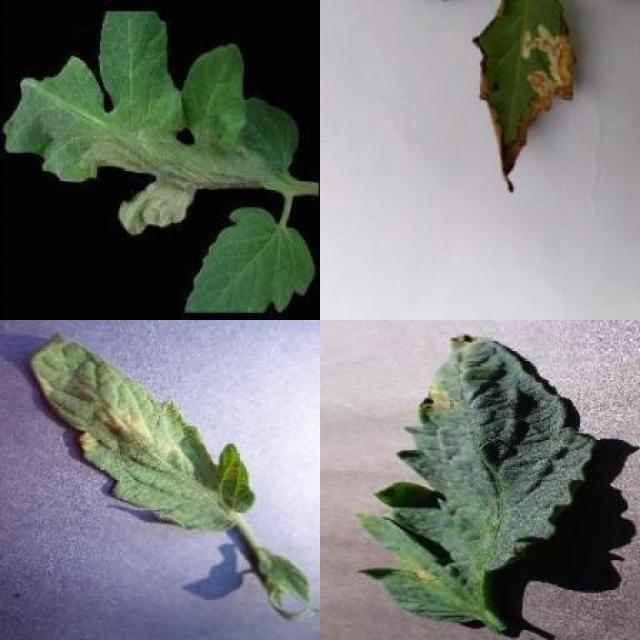Early Blight: (361, 334, 593, 624)
Healthy: (184, 205, 314, 312)
Late Blight: (0, 13, 297, 236)
Leaf Miner: (470, 0, 575, 174)
Leaf Mold: (31, 332, 258, 532)
